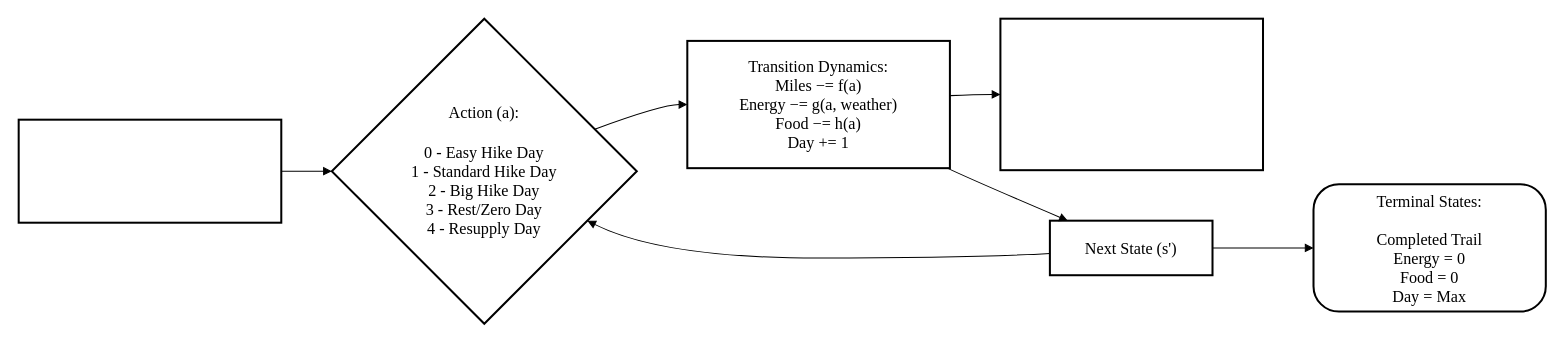
This 1563x341 diagram has some shape labels left out. The centre of each missing label's shape, as x and y in pixels:
"Reward R(s,a): + Miles − Per day − Low Food/Energy + Success − Failure" belongs at pixel 1131 94.
"State (s): {Miles Remaining, Energy, Food, Weather, Day}" belongs at pixel 149 170.
